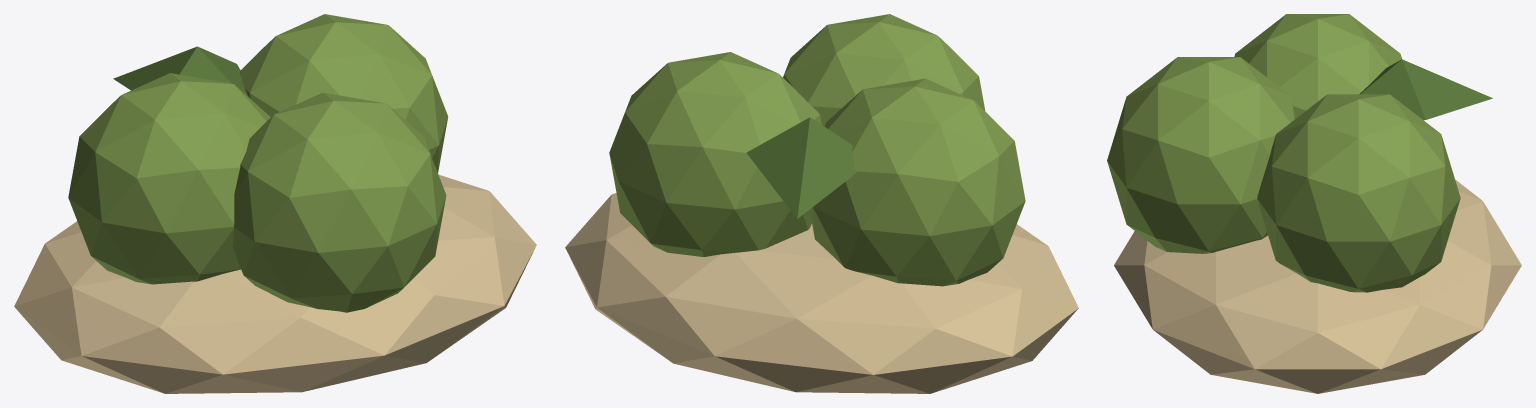
The model's file is scent-bait.glb.
The picture shows the model from 3 angles, left to right: view 1: azimuth 30°, elevation 25°; view 2: azimuth 150°, elevation 25°; view 3: azimuth 270°, elevation 25°; orthographic projection. The views are drawn at different scales.
Visible parts, largest first — view 1: ScentBait; view 2: ScentBait; view 3: ScentBait.
Boxes of the visible parts, x1=… form: ScentBait: x1=14, y1=14, x2=536, y2=393; ScentBait: x1=565, y1=14, x2=1078, y2=393; ScentBait: x1=1107, y1=14, x2=1521, y2=393.
Bounding box in the file's own units: 0.7228 × 0.44 × 0.61.
